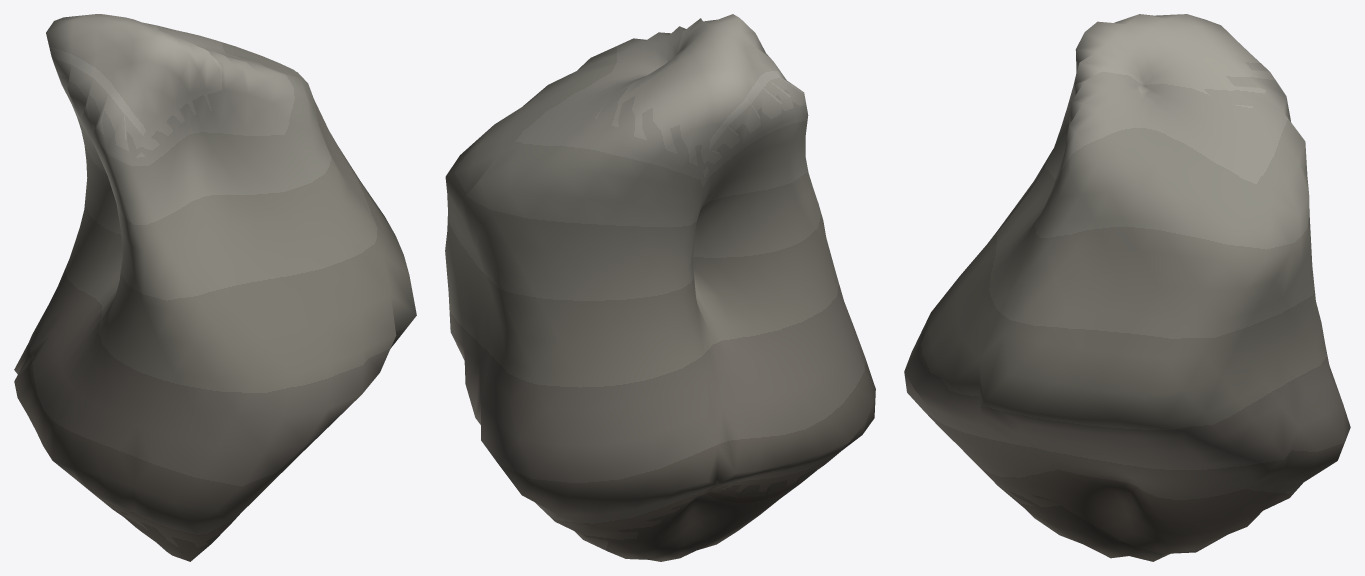
Rendered from DL_Obj_Level5_MineRock5.fbx.
3 views of the same model, side by side, from view 1: azimuth 30°, elevation 25°; view 2: azimuth 150°, elevation 25°; view 3: azimuth 270°, elevation 25° (orthographic). The views are drawn at different scales.
Parts seen in each view (by area): view 1: Level5_MineRock05; view 2: Level5_MineRock05; view 3: Level5_MineRock05.
Boxes of the visible parts, x1,y1,x2,y2 form: Level5_MineRock05: (14,14,416,561); Level5_MineRock05: (445,14,875,561); Level5_MineRock05: (904,14,1350,561).
Size of the model in its own units: 127 by 179 by 139.
